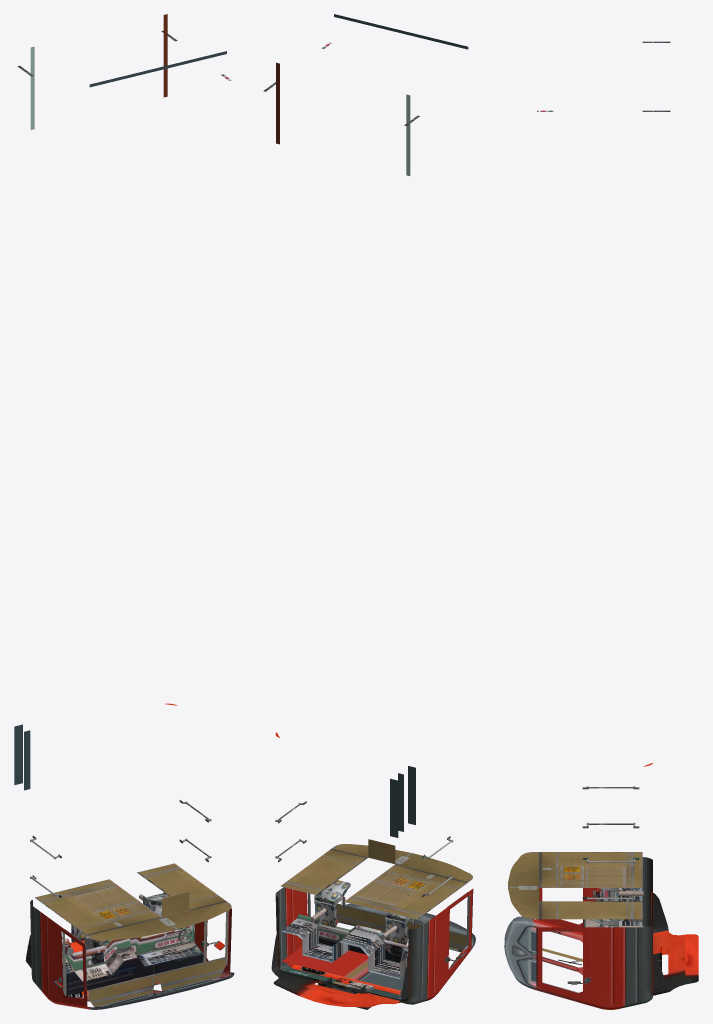
The model's file is ed4m_morda.obj.
3 views of the same model, side by side, from view 1: azimuth 30°, elevation 25°; view 2: azimuth 150°, elevation 25°; view 3: azimuth 270°, elevation 25° (orthographic). The views are drawn at different scales.
Parts seen in each view (by area): view 1: 034501; view 2: 034501; view 3: 034501.
Part boxes in pixels (box(x1,y1,x2,y2)): 034501: box(14, 14, 234, 1009); 034501: box(263, 14, 475, 1009); 034501: box(504, 41, 698, 1009).
Size of the model in its own units: 197 by 1086 by 202.
